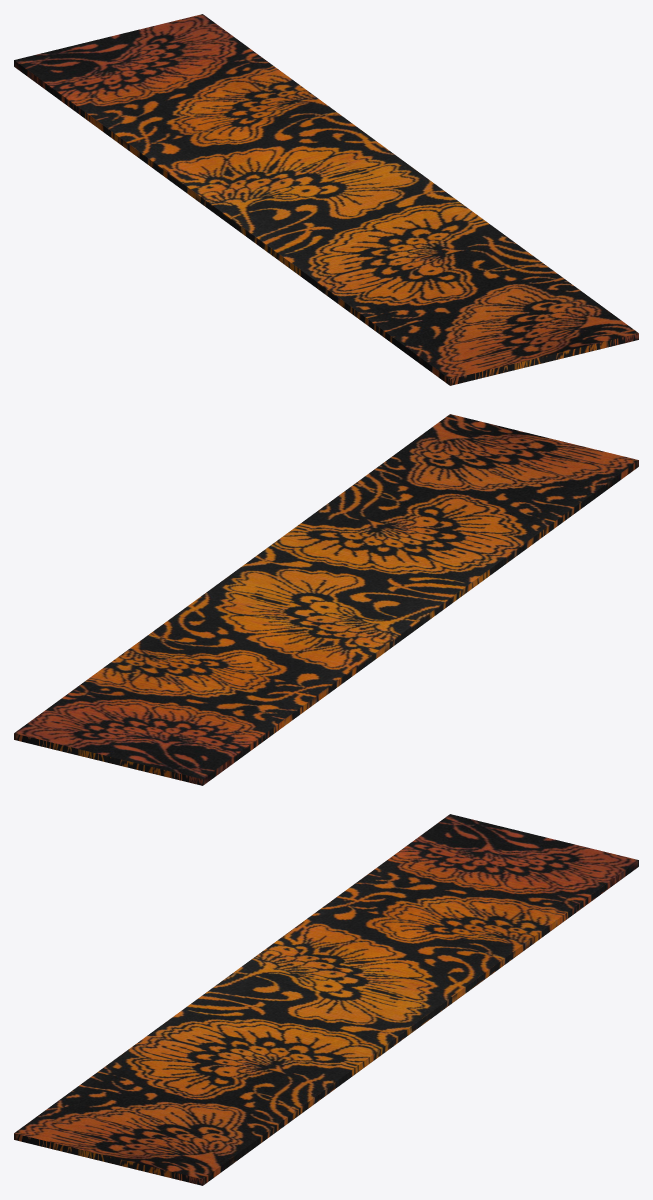
File: scarf.fbx
The picture shows the model from 3 angles, top to bottom: view 1: azimuth 30°, elevation 25°; view 2: azimuth 150°, elevation 25°; view 3: azimuth 330°, elevation 25°; orthographic projection.
Parts seen in each view (by area): view 1: pCube1; view 2: pCube1; view 3: pCube1.
Part boxes in pixels (bbox=[...]): pCube1: bbox=[14, 14, 638, 385]; pCube1: bbox=[14, 414, 638, 785]; pCube1: bbox=[14, 814, 638, 1185].
Bounding box in the file's own units: 3 × 0.1 × 12.
Materials: 1 (1 with a texture image).
